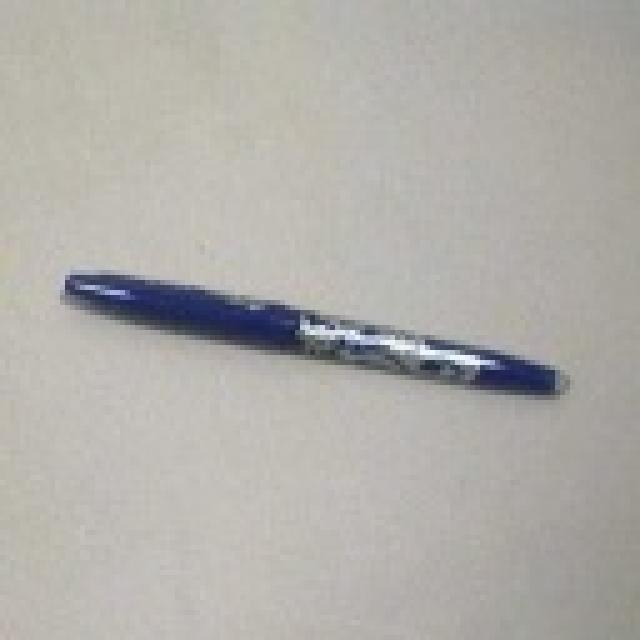pen: (62, 259, 568, 414)
